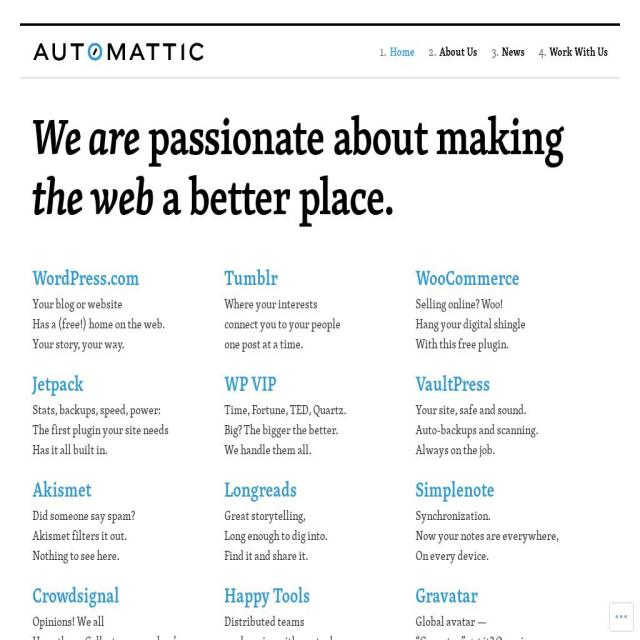button: (550, 26, 608, 77), (439, 26, 477, 77), (390, 26, 414, 77), (502, 26, 524, 77)
heading: (139, 110, 564, 173), (153, 170, 394, 233), (32, 170, 153, 233), (32, 110, 140, 173), (32, 39, 204, 64), (32, 266, 140, 292), (416, 266, 520, 292), (32, 584, 120, 610), (224, 584, 310, 610), (416, 478, 495, 504), (416, 372, 490, 398), (224, 478, 297, 504), (416, 584, 478, 610), (32, 478, 92, 504), (224, 266, 278, 292), (32, 372, 84, 398), (224, 372, 276, 398)
image: (614, 606, 628, 626)
text: (416, 524, 560, 545), (33, 418, 168, 439), (33, 312, 165, 333), (32, 398, 160, 419), (224, 398, 346, 419), (416, 418, 538, 439), (224, 312, 340, 333), (224, 418, 338, 439), (416, 312, 526, 333), (416, 398, 526, 419), (224, 524, 328, 545), (33, 504, 135, 525), (224, 292, 318, 314), (32, 524, 127, 545), (32, 292, 122, 314), (416, 332, 510, 353), (416, 292, 504, 314), (32, 332, 124, 353), (32, 544, 120, 565), (224, 438, 311, 459), (224, 544, 308, 565), (224, 504, 306, 525), (416, 438, 496, 459), (224, 610, 304, 631), (224, 332, 303, 353), (32, 438, 108, 459), (416, 504, 491, 525), (416, 544, 490, 565), (32, 610, 104, 631), (416, 610, 488, 631), (32, 630, 176, 640), (224, 630, 340, 640), (416, 630, 528, 640)
